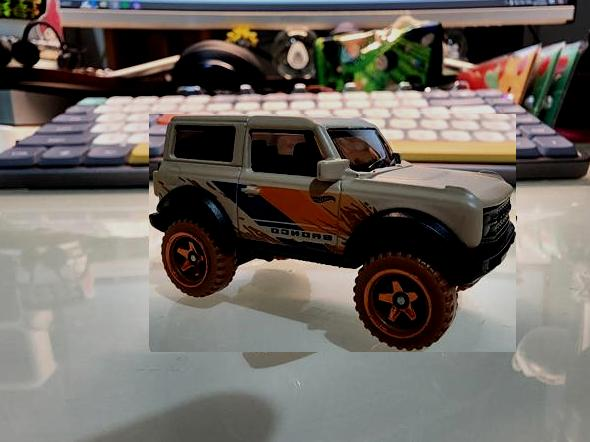toy-car: (150, 115, 517, 353)
